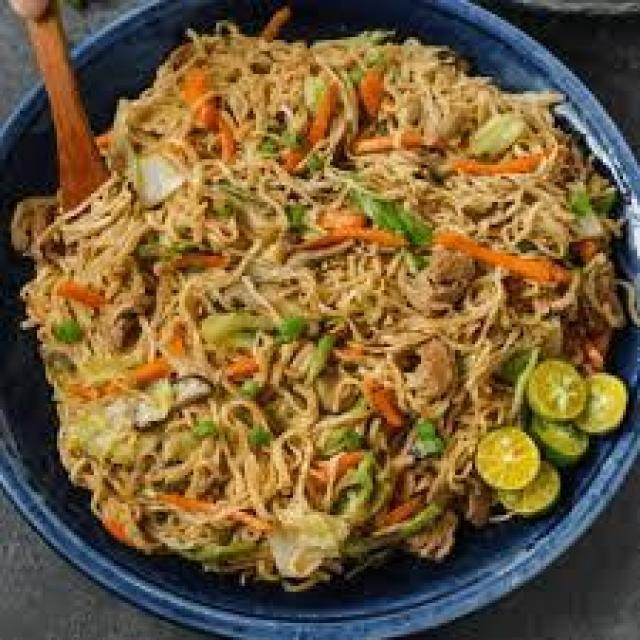pancit bihon: (76, 62, 562, 575)
